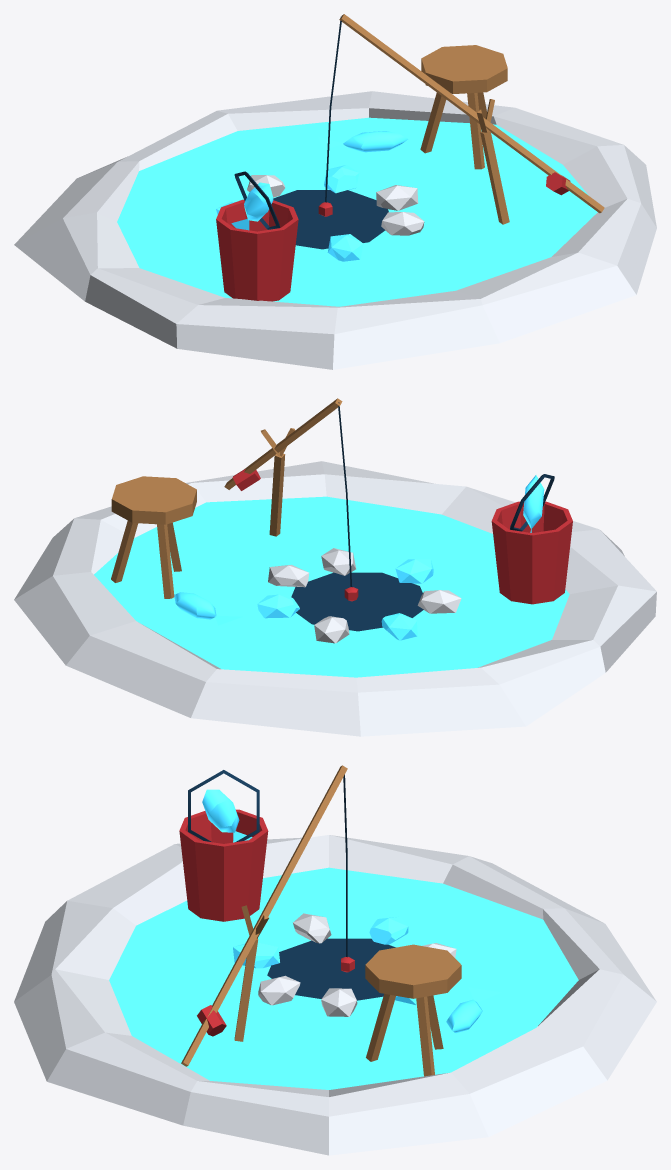
Rendered from ice_fishing_spot.glb.
The picture shows the model from 3 angles, top to bottom: view 1: azimuth 30°, elevation 25°; view 2: azimuth 150°, elevation 25°; view 3: azimuth 270°, elevation 25°; orthographic projection. The views are drawn at different scales.
Parts seen in each view (by area): view 1: ice_fishing_spot; view 2: ice_fishing_spot; view 3: ice_fishing_spot.
Boxes of the visible parts, x1=… form: ice_fishing_spot: x1=14, y1=14, x2=656, y2=369; ice_fishing_spot: x1=14, y1=398, x2=656, y2=736; ice_fishing_spot: x1=14, y1=765, x2=656, y2=1155.
Size of the model in its own units: 2.32 by 0.8618 by 2.14.
